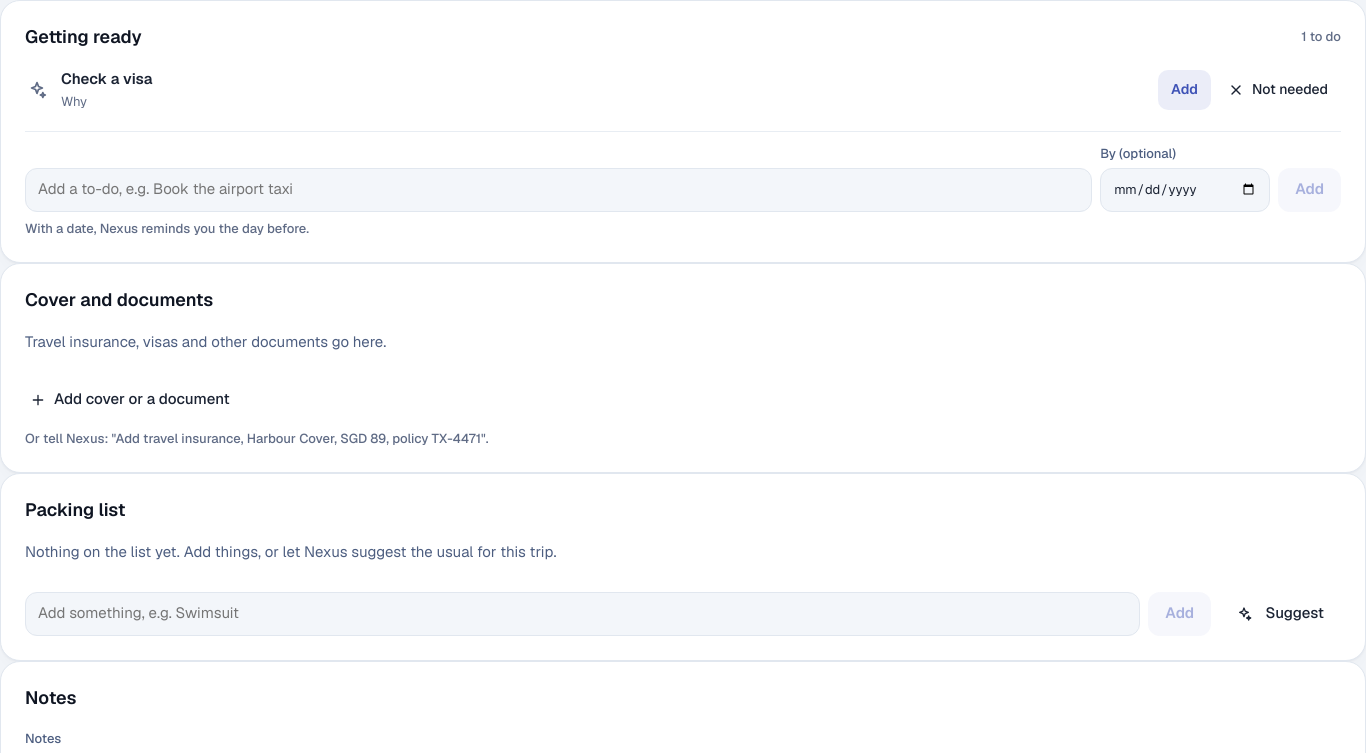
Test: Getting ready › a suggestion that adds cover opens the cover sheet with its kind chosen
Click the button with aria-label "Add: Check a visa".
click(1185, 90)  # box left=1158, top=70, right=1211, bottom=110
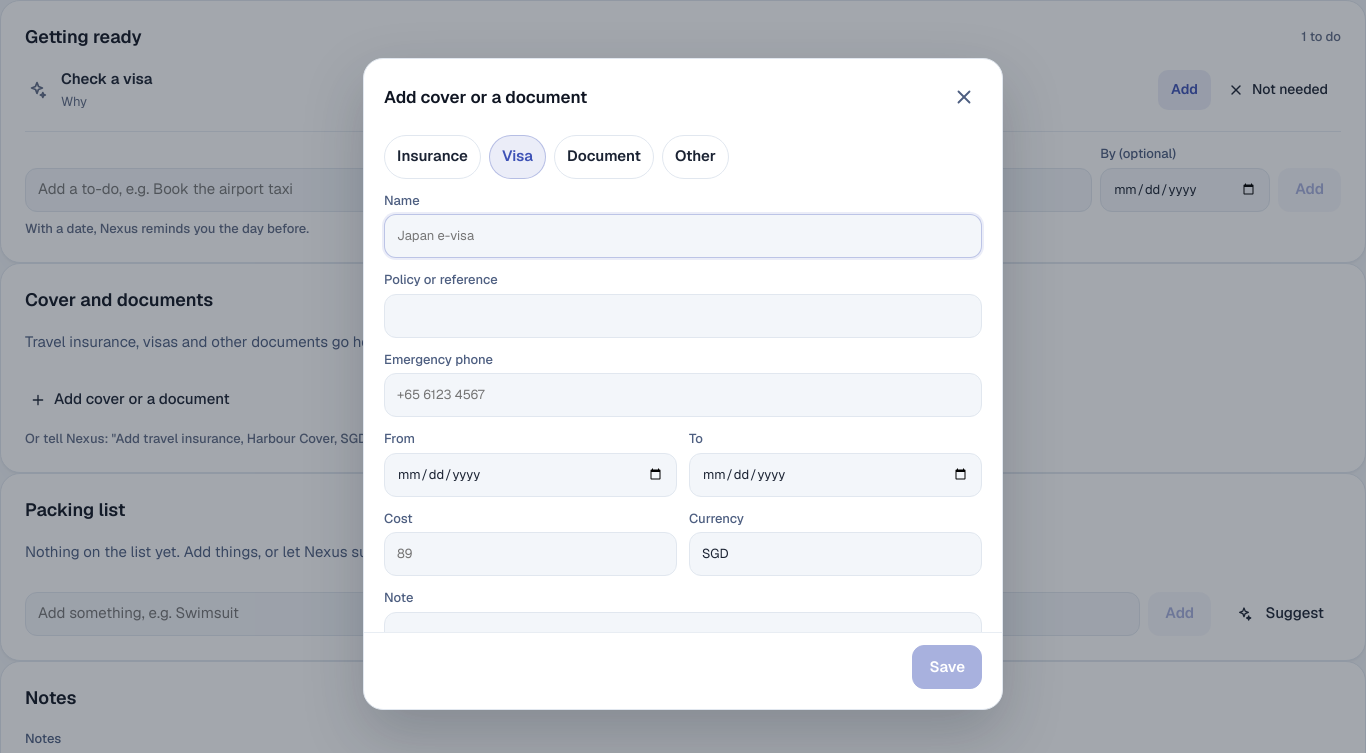
Now the radio button labelled "Visa" is checked, box left=489, top=135, right=546, bottom=179
Now the radio button labelled "Insurance" is not checked, box left=384, top=135, right=481, bottom=179
Now the field labelled "Name" is shown, box left=384, top=214, right=982, bottom=258
